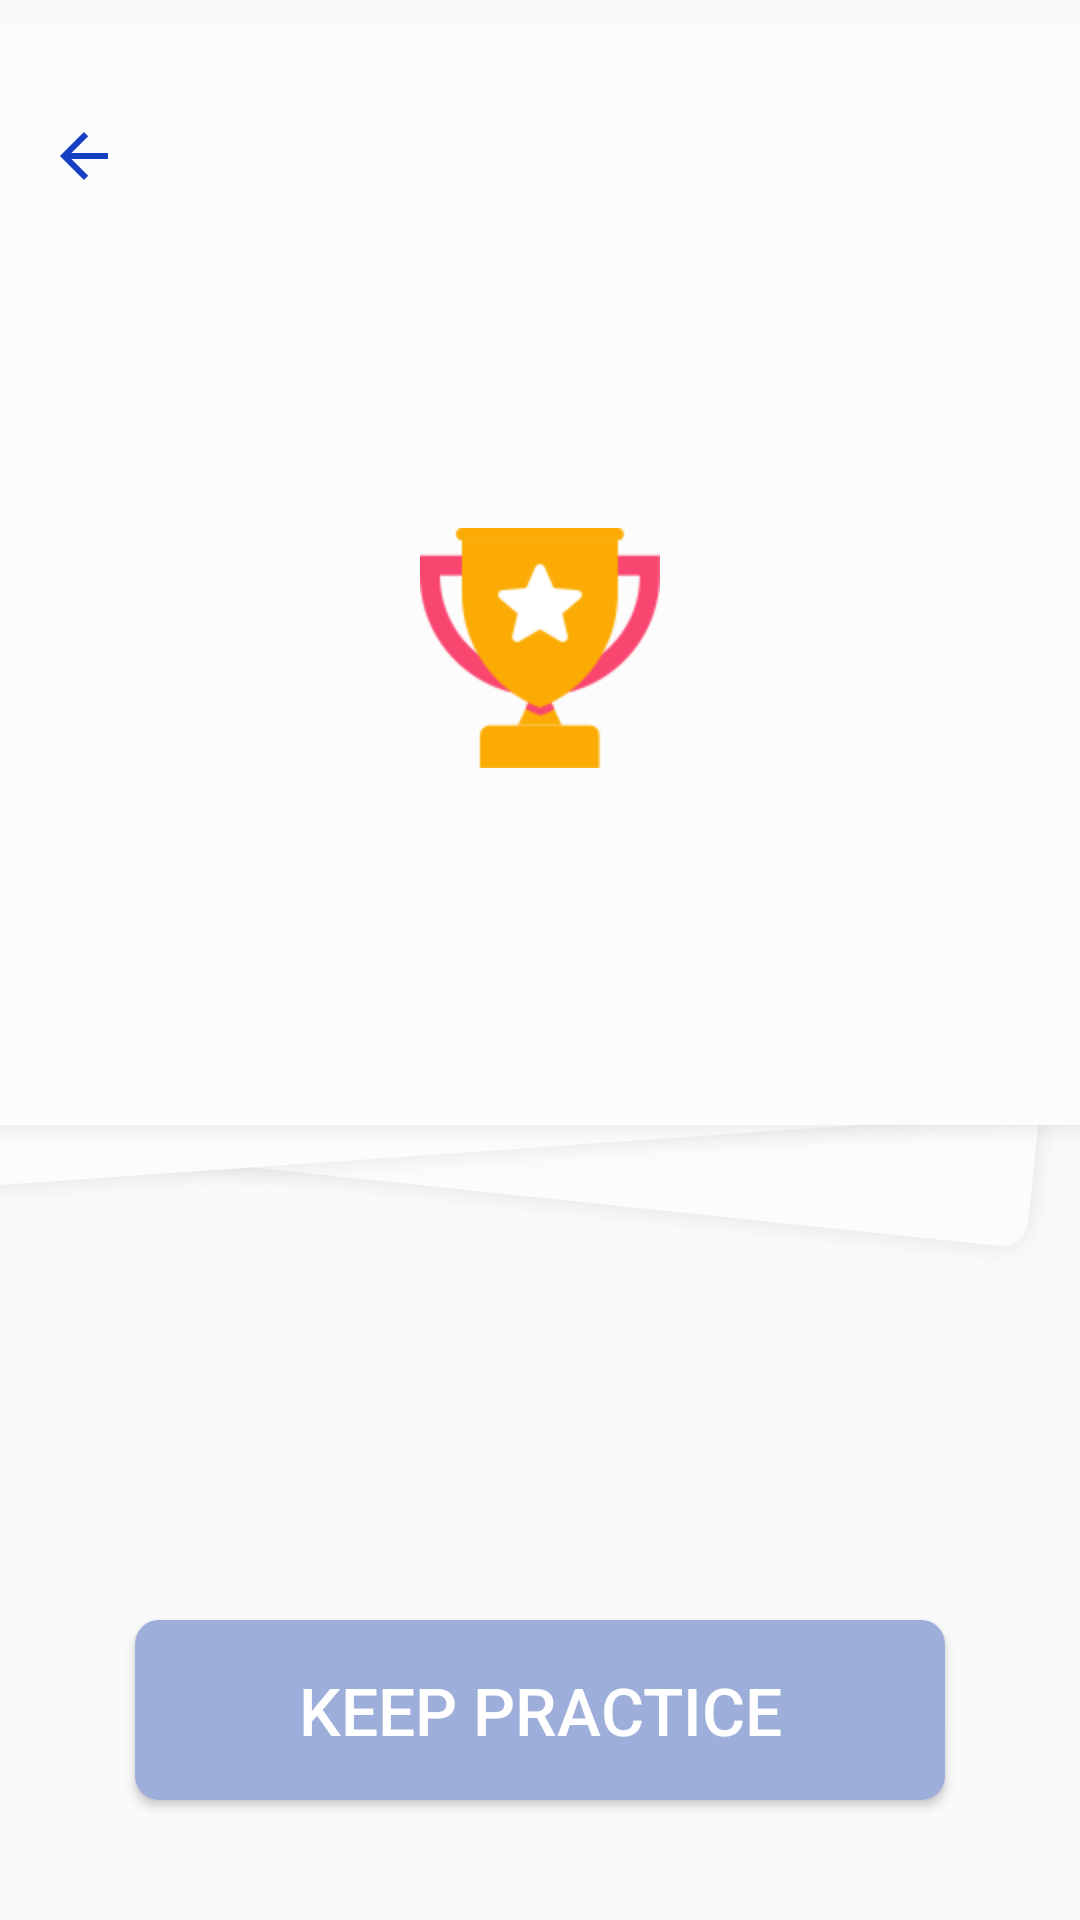

Screen size 1080x1920. Icon name, then its center in pixels as [x,y]:
back: [84,156]
greate: [540,648]
